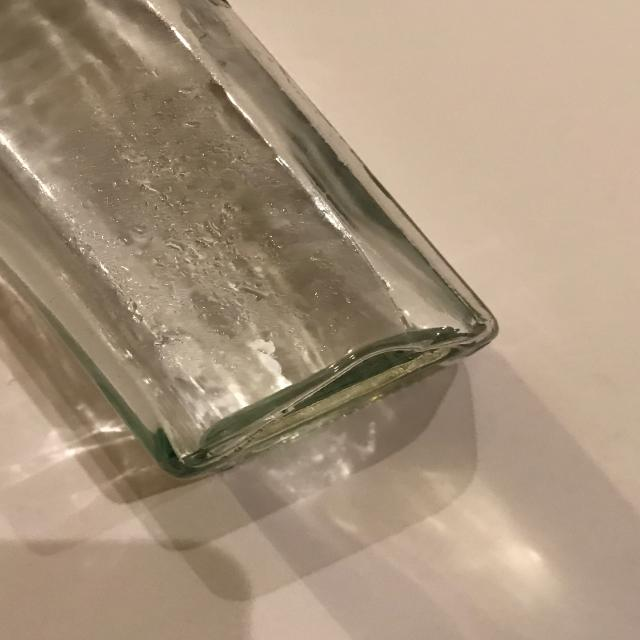glass: (0, 0, 500, 482)
